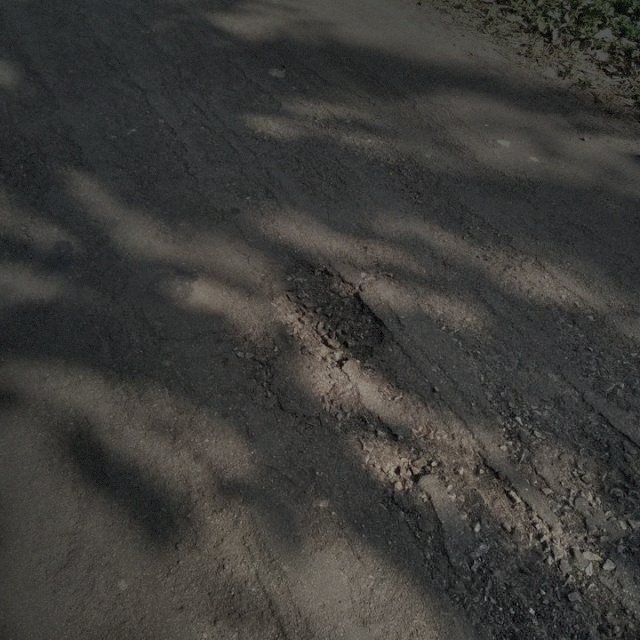pothole: (268, 258, 391, 370)
